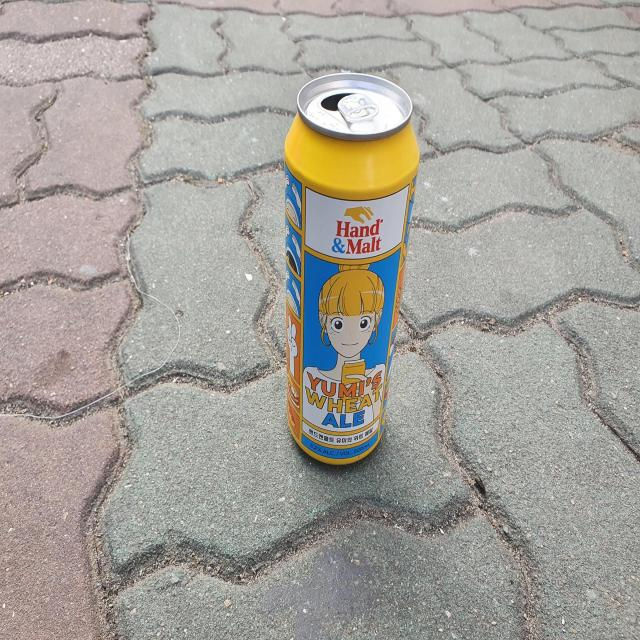can: (285, 72, 420, 464)
